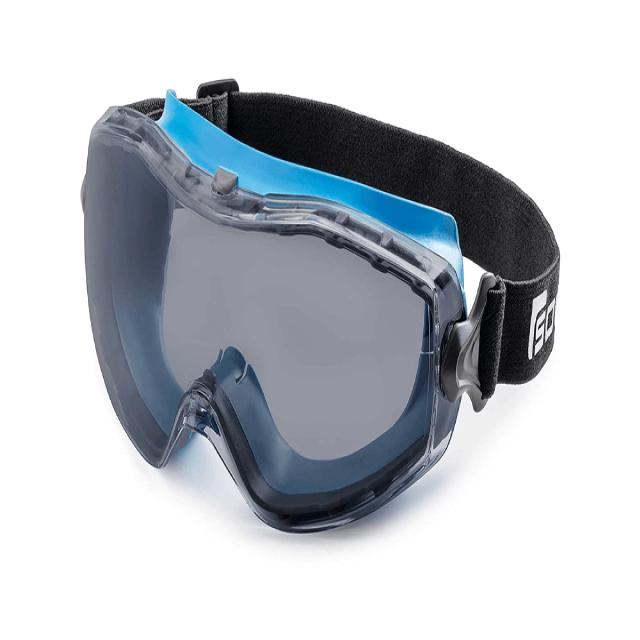goggles: (77, 49, 501, 521)
